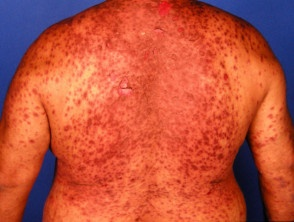SJS-TEN: (0, 0, 285, 222)
